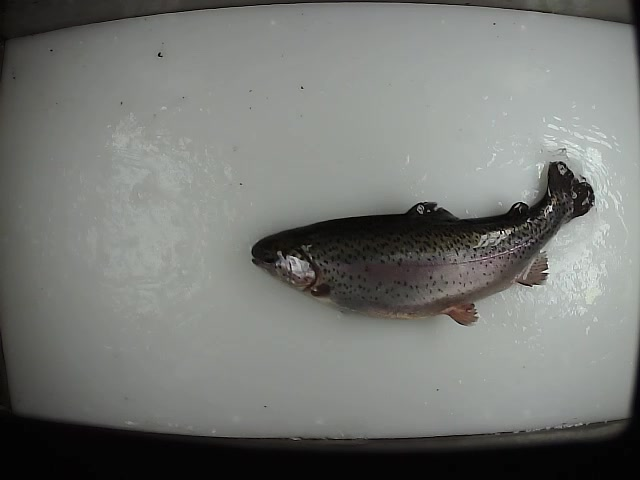fish: (248, 158, 597, 328)
